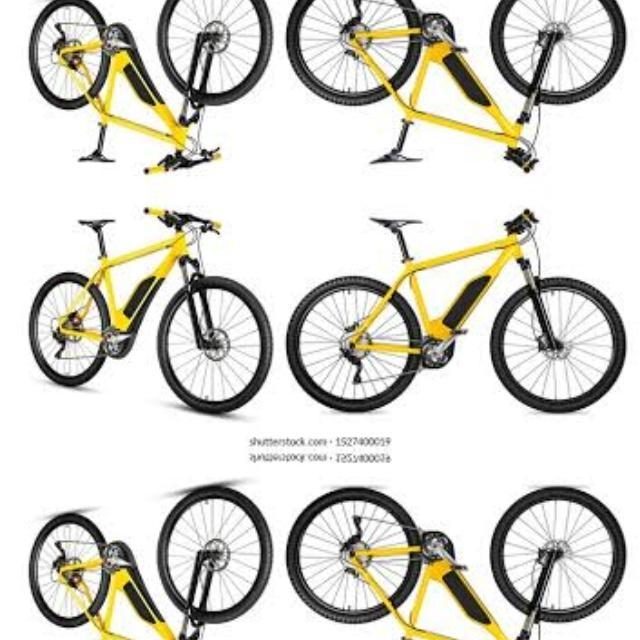obstacle: (283, 194, 640, 411), (283, 0, 640, 185), (17, 197, 282, 419), (283, 487, 640, 640), (16, 0, 281, 183), (16, 479, 281, 640)
